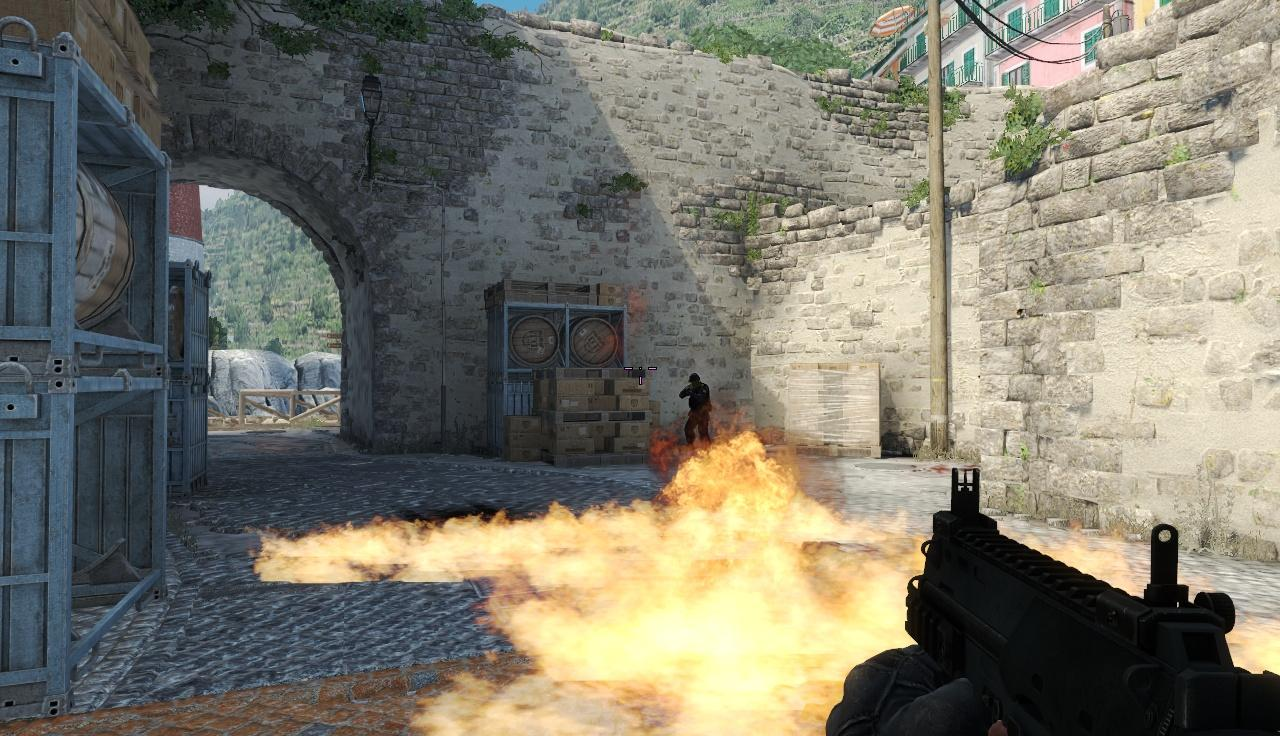ct: (683, 373, 714, 446), (684, 373, 715, 446)
cthead: (689, 373, 703, 387)
rifle: (912, 472, 1280, 736)
